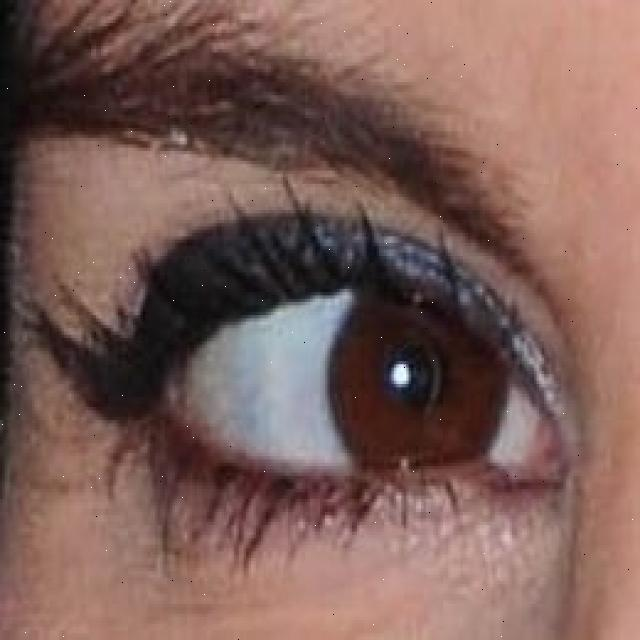Normal: (324, 270, 509, 492)
